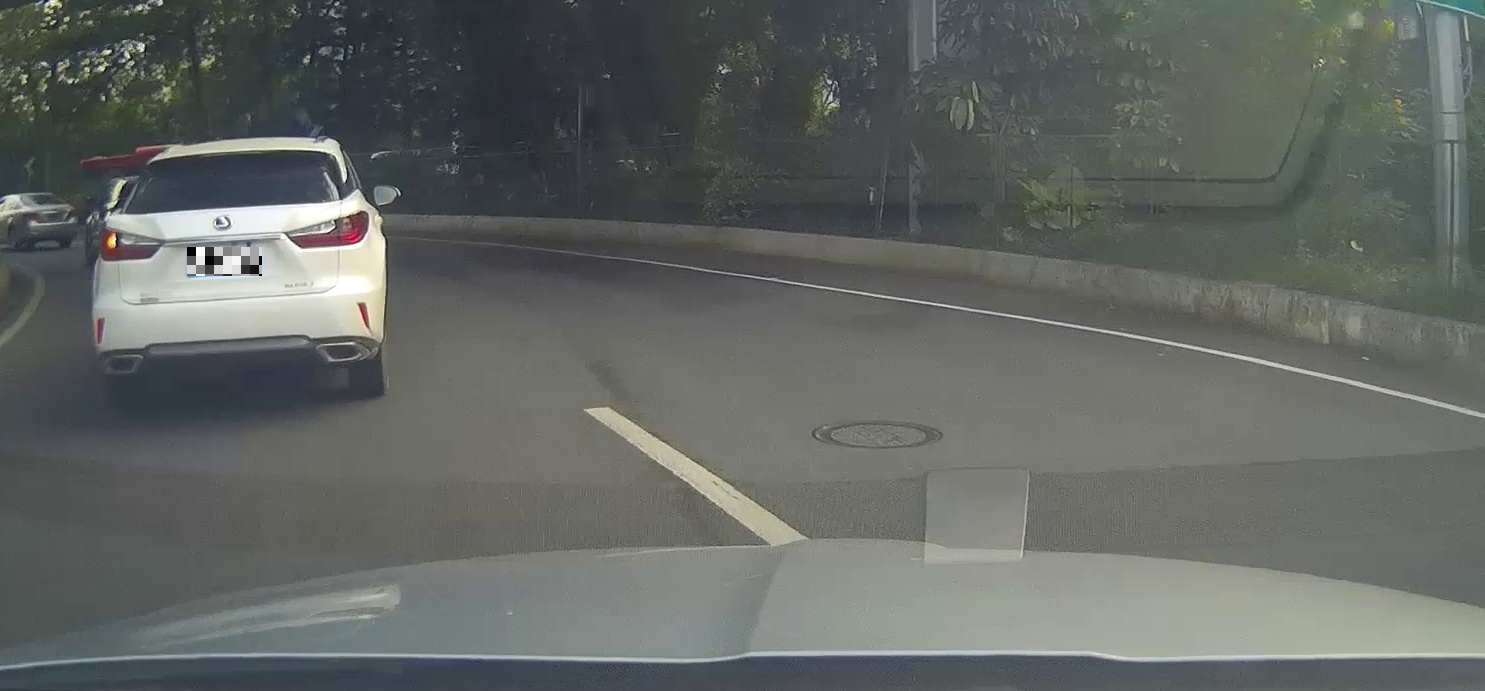L_light: (98, 225, 164, 262), (24, 213, 40, 221)
R_light: (286, 210, 370, 248), (66, 209, 77, 218)
T_light: (219, 150, 255, 161), (35, 194, 45, 198)
day-left: (91, 137, 386, 407)
day-no: (17, 192, 78, 249)
plate_1: (187, 247, 262, 276)
